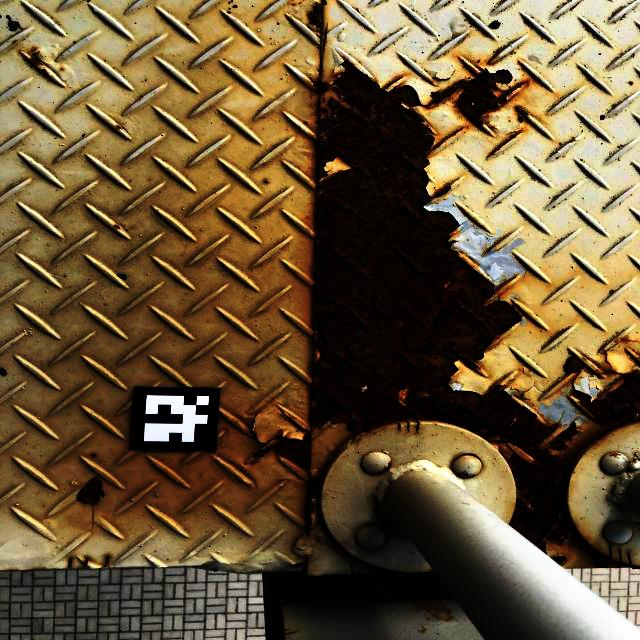Corrosion: (310, 57, 640, 570), (249, 417, 312, 473), (305, 471, 326, 532), (308, 0, 326, 30), (30, 55, 49, 75), (348, 576, 373, 589), (389, 578, 407, 587), (375, 568, 397, 575)
